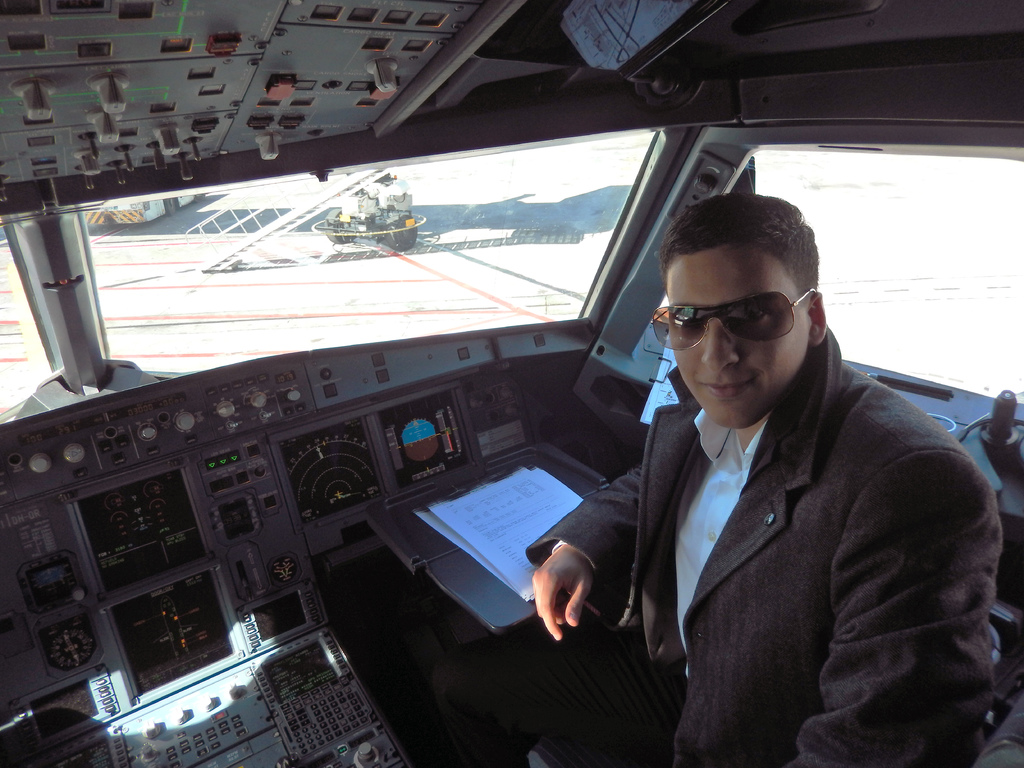Person: (434, 190, 1002, 768)
